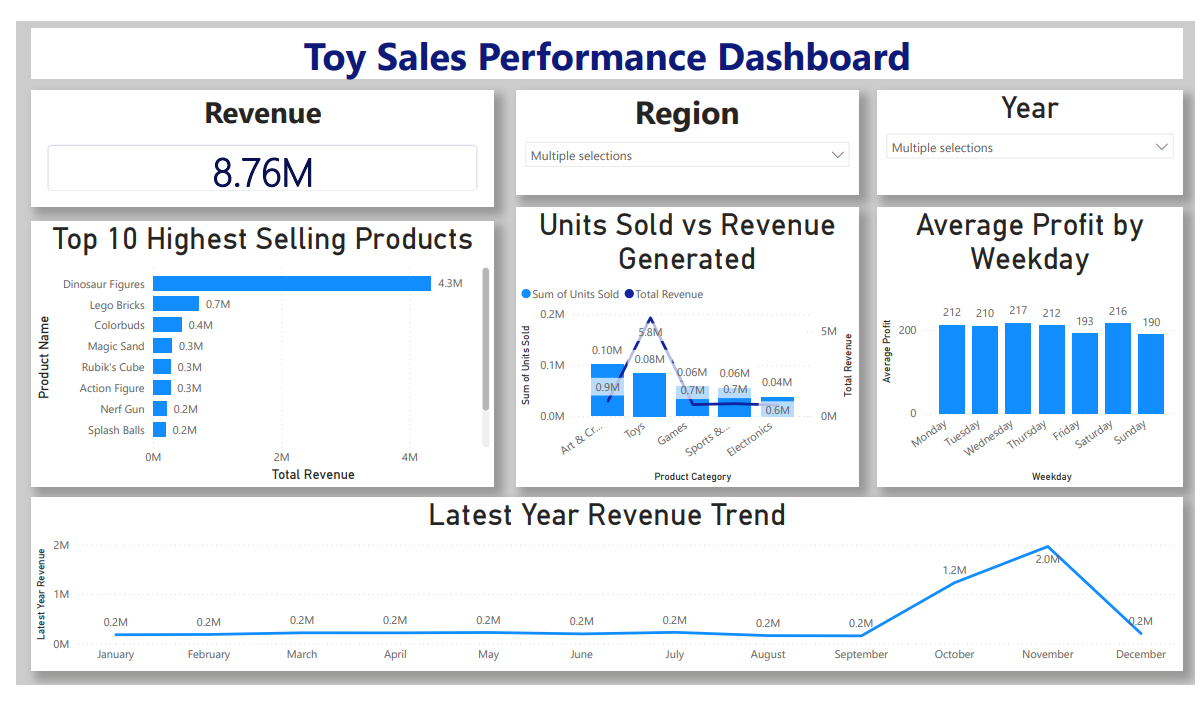

What the dashboard file says about the page in this screenshot:
{"tool":"powerbi","page":{"name":"Page 1","canvas":[1280,720],"ordinal":0},"visuals":[{"type":"cardVisual","title":"Revenue","fields":{"Data":["Data.Total Revenue"]},"box":[16.9,74.8,501.9,126.7],"z":0},{"type":"slicer","title":"Region","fields":{"Values":["Data.Region"]},"box":[543.3,75,371.7,113.3],"z":1000},{"type":"slicer","title":"Year","fields":{"Values":["Date Table.Year"]},"box":[935,75,331.7,113.3],"z":2000},{"type":"clusteredBarChart","title":"Top 10 Highest Selling Products","fields":{"Category":["Data.Product Name"],"Y":["Data.Total Revenue"]},"box":[16.9,217.2,501.9,288.3],"z":3000},{"type":"clusteredColumnChart","fields":{"Category":["Data.Weekday"],"Y":["Data.Average Profit"]},"box":[935,201.7,331.7,303.3],"z":4000},{"type":"lineClusteredColumnComboChart","title":"Units Sold vs Revenue Generated","fields":{"Category":["Data.Product Category"],"Y":["Sum(Data.Units Sold)"],"Y2":["Data.Total Revenue"]},"box":[543.3,201.7,371.7,303.3],"z":5000},{"type":"lineChart","title":"Latest Year Revenue Trend","fields":{"Category":["Date Table.Date.Variation.Date Hierarchy.Month"],"Y":["Data.Latest Year Revenue"]},"box":[16.7,516.7,1250,188.3],"z":6000},{"type":"textbox","title":"Toy Sales Performance Dashboard","box":[16.9,8.4,1249.9,54.3],"z":7000}]}

Visuals, with their boxes on the page's 1280x720 design canvas (x1, y1, x2, y2). These are canvas units, not pixel positions in the 1202x702 screenshot, which may show the page scaled, cropped or inside an application window:
"Revenue" cardVisual: {"x1": 17, "y1": 75, "x2": 519, "y2": 202}
"Region" slicer: {"x1": 543, "y1": 75, "x2": 915, "y2": 188}
"Year" slicer: {"x1": 935, "y1": 75, "x2": 1267, "y2": 188}
"Top 10 Highest Selling Products" clusteredBarChart: {"x1": 17, "y1": 217, "x2": 519, "y2": 506}
clusteredColumnChart - Data.Weekday x Data.Average Profit: {"x1": 935, "y1": 202, "x2": 1267, "y2": 505}
"Units Sold vs Revenue Generated" lineClusteredColumnComboChart: {"x1": 543, "y1": 202, "x2": 915, "y2": 505}
"Latest Year Revenue Trend" lineChart: {"x1": 17, "y1": 517, "x2": 1267, "y2": 705}
"Toy Sales Performance Dashboard" textbox: {"x1": 17, "y1": 8, "x2": 1267, "y2": 63}
